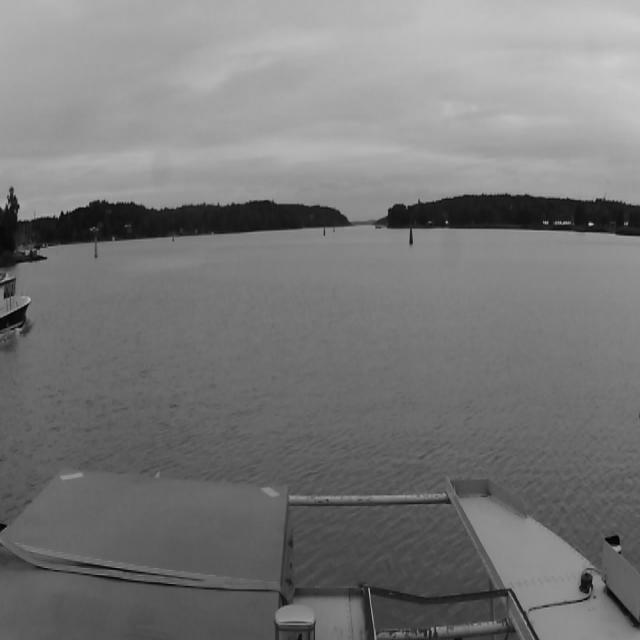buoy: (94, 237, 98, 259), (409, 228, 413, 245), (323, 227, 325, 236), (172, 234, 174, 242), (333, 226, 335, 232)
ship: (0, 266, 32, 340)
